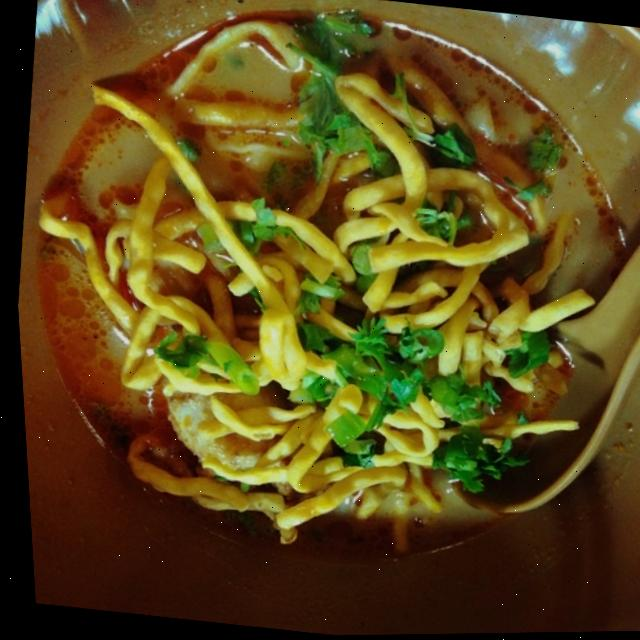面条主食: (7, 0, 640, 622)
